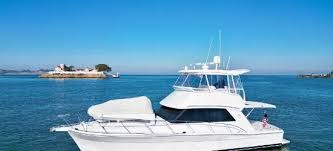boat: (50, 28, 292, 151)
